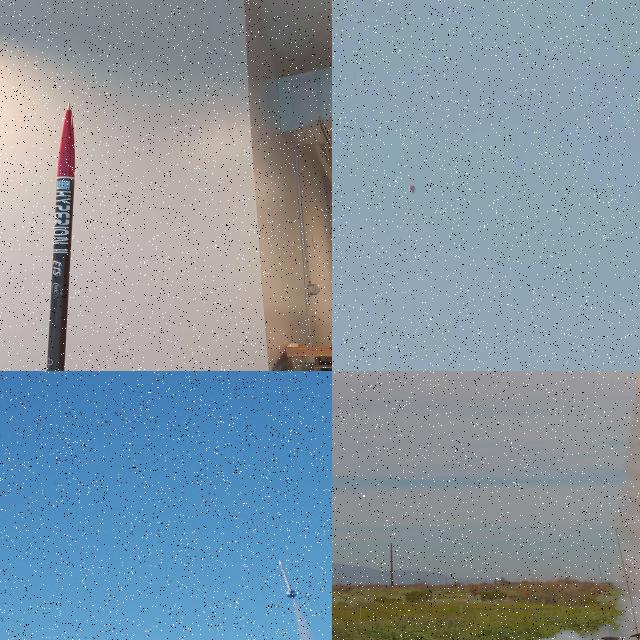Rocket: (46, 101, 75, 371), (277, 560, 298, 600), (384, 298, 388, 306)
